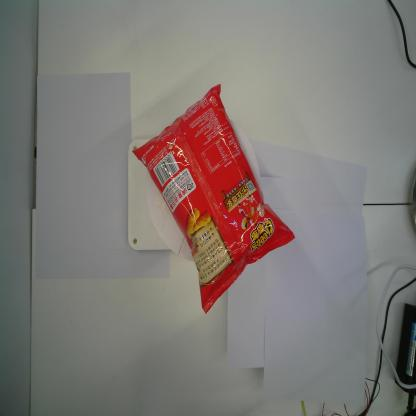Puffed Food: (131, 82, 297, 316)
